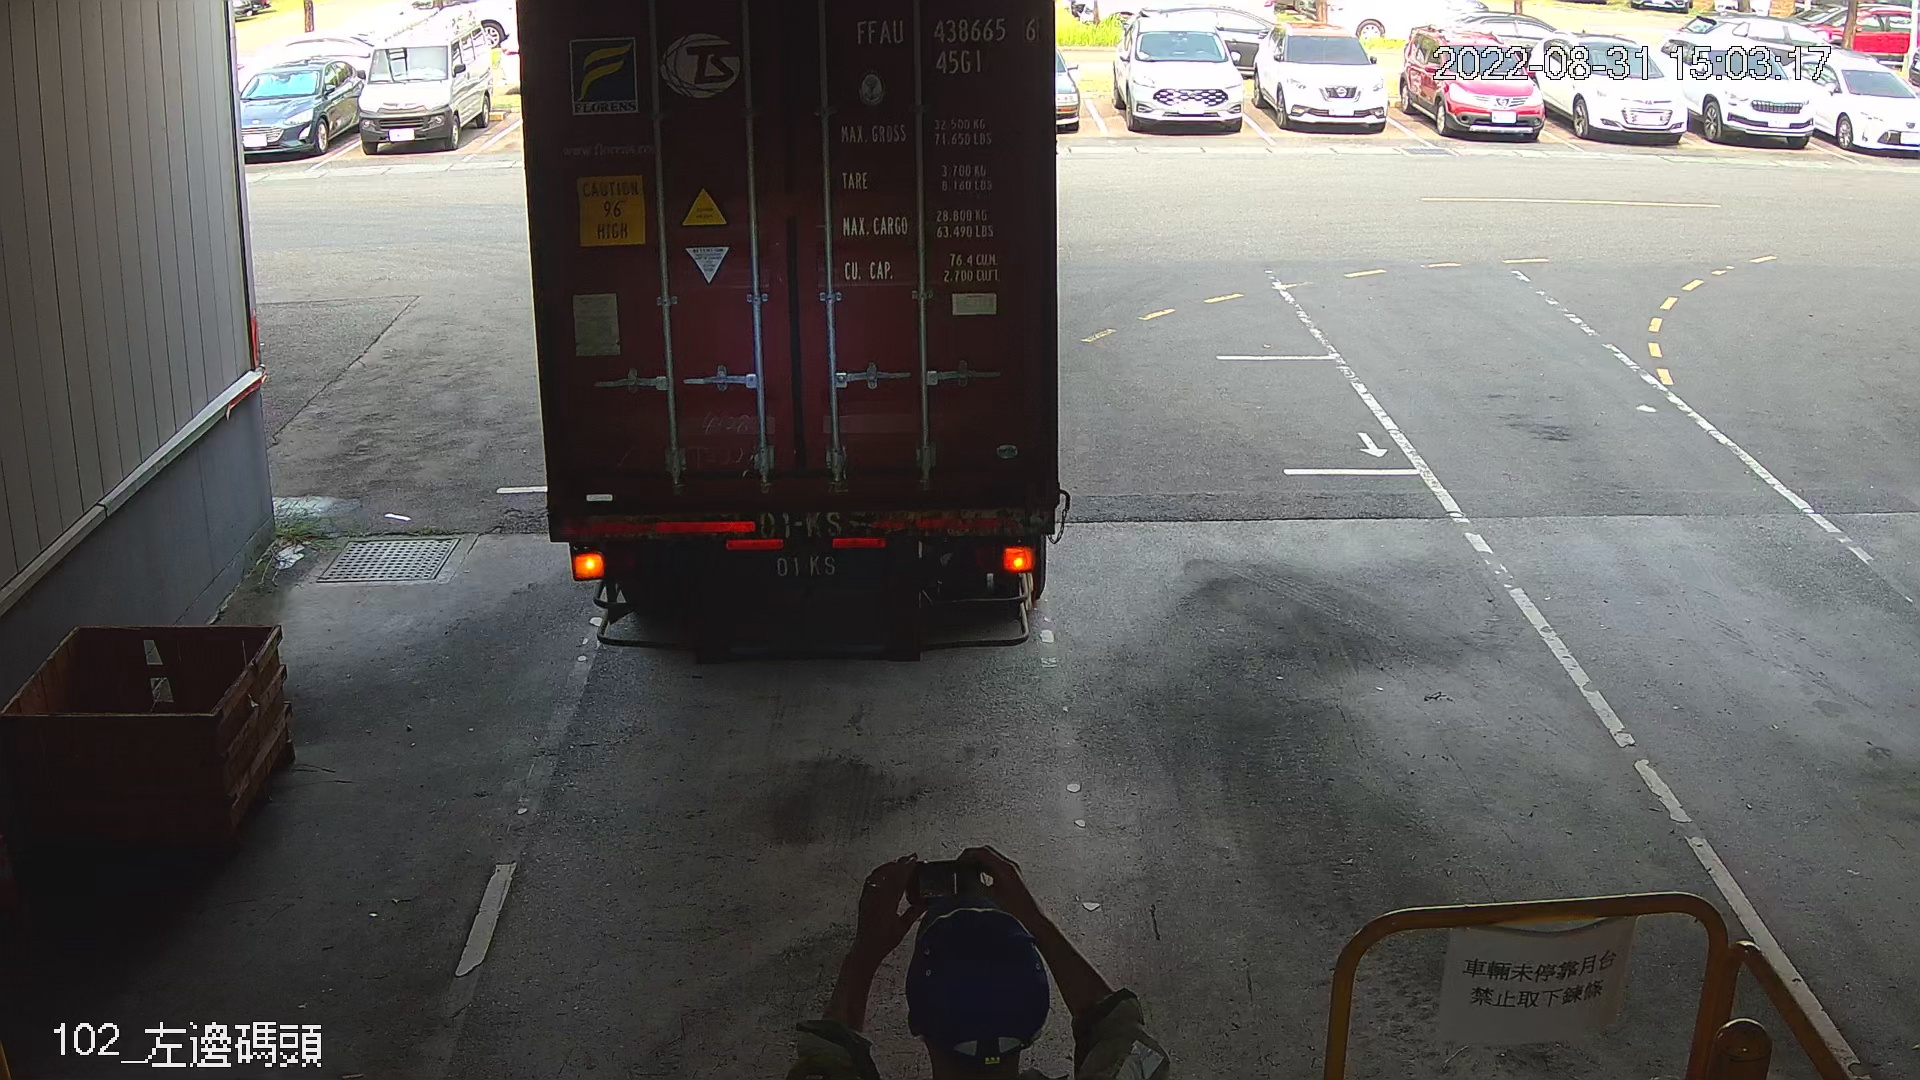container: (847, 11, 1044, 79)
